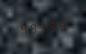five: (48, 19, 57, 32)
four: (18, 21, 27, 35)
nine: (58, 18, 67, 32), (28, 21, 37, 34)
seven: (38, 20, 47, 33)
